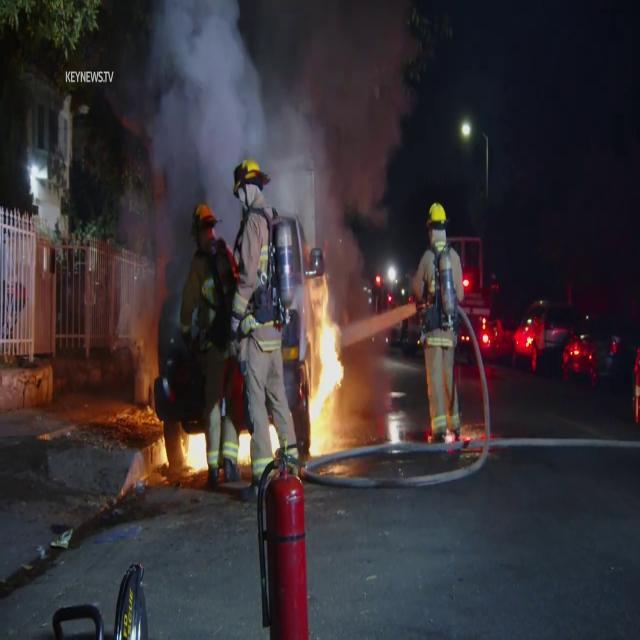Fire: (305, 276, 349, 456)
Smoke: (122, 0, 414, 262)
